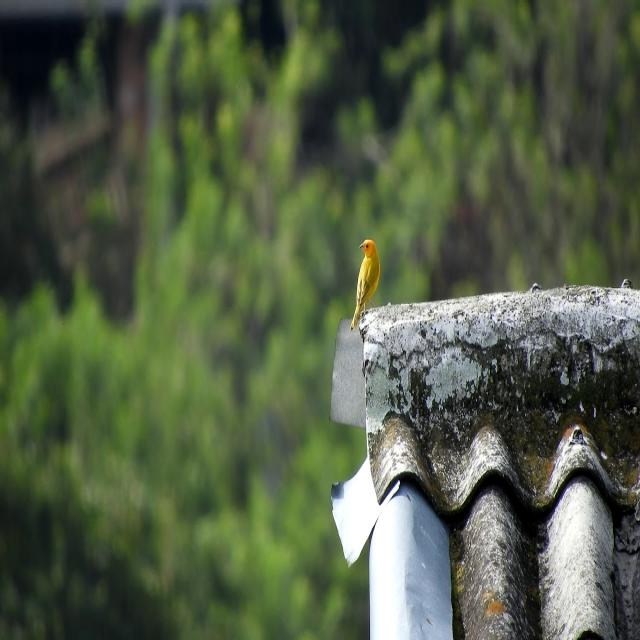bird: (349, 237, 381, 332)
